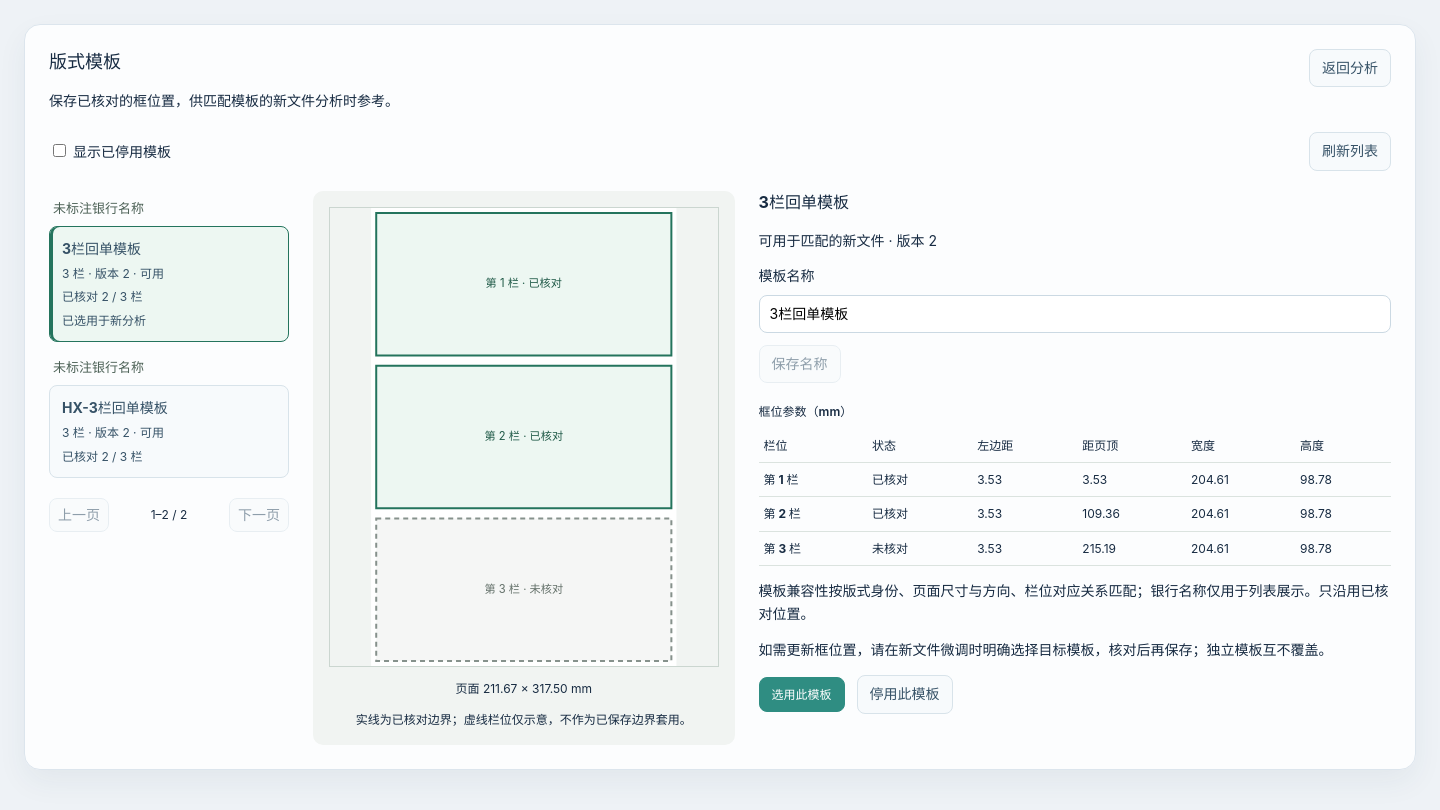
LayoutTemplateManager › keeps the editable name aligned when selecting another template after an async load
expect the heading "3栏回单模板" is shown: met, box [759,192,849,212]
expect the field labelled "模板名称" holds "3栏回单模板": met, box [759,295,1391,333]
Step 1. Click the button "HX-3栏回单模板 3 栏 · 版本 2 · 可用 已核对 2 / 3 栏" → [169, 431], box [49,385,289,478]
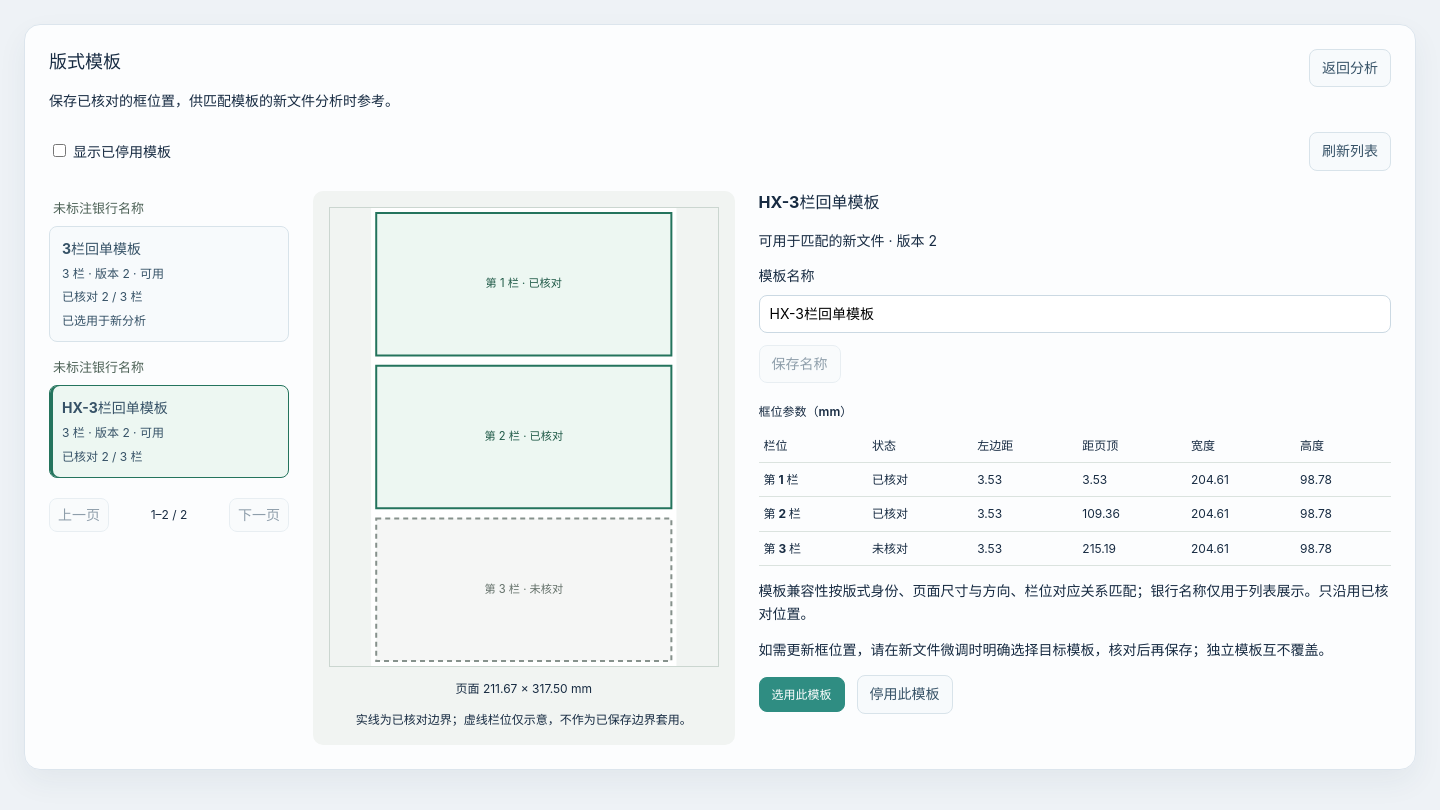
expect the heading "HX-3栏回单模板" is shown: met, box [759,192,880,212]
expect the field labelled "模板名称" holds "HX-3栏回单模板": met, box [759,295,1391,333]
